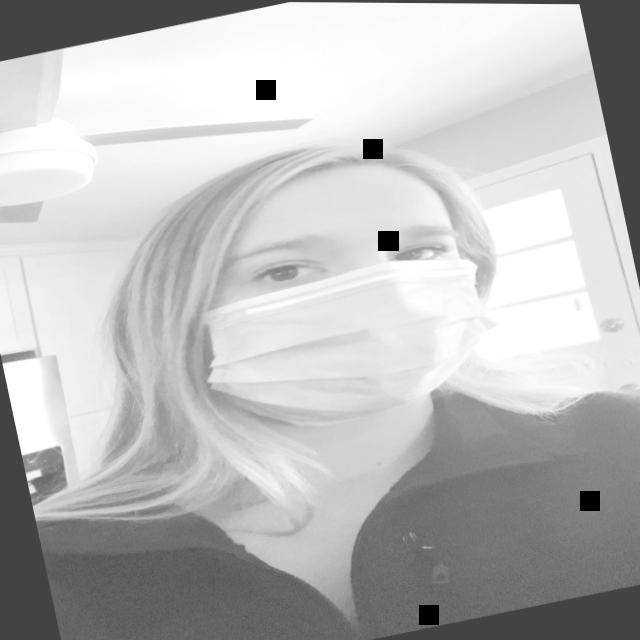Mask: (121, 120, 536, 477)
